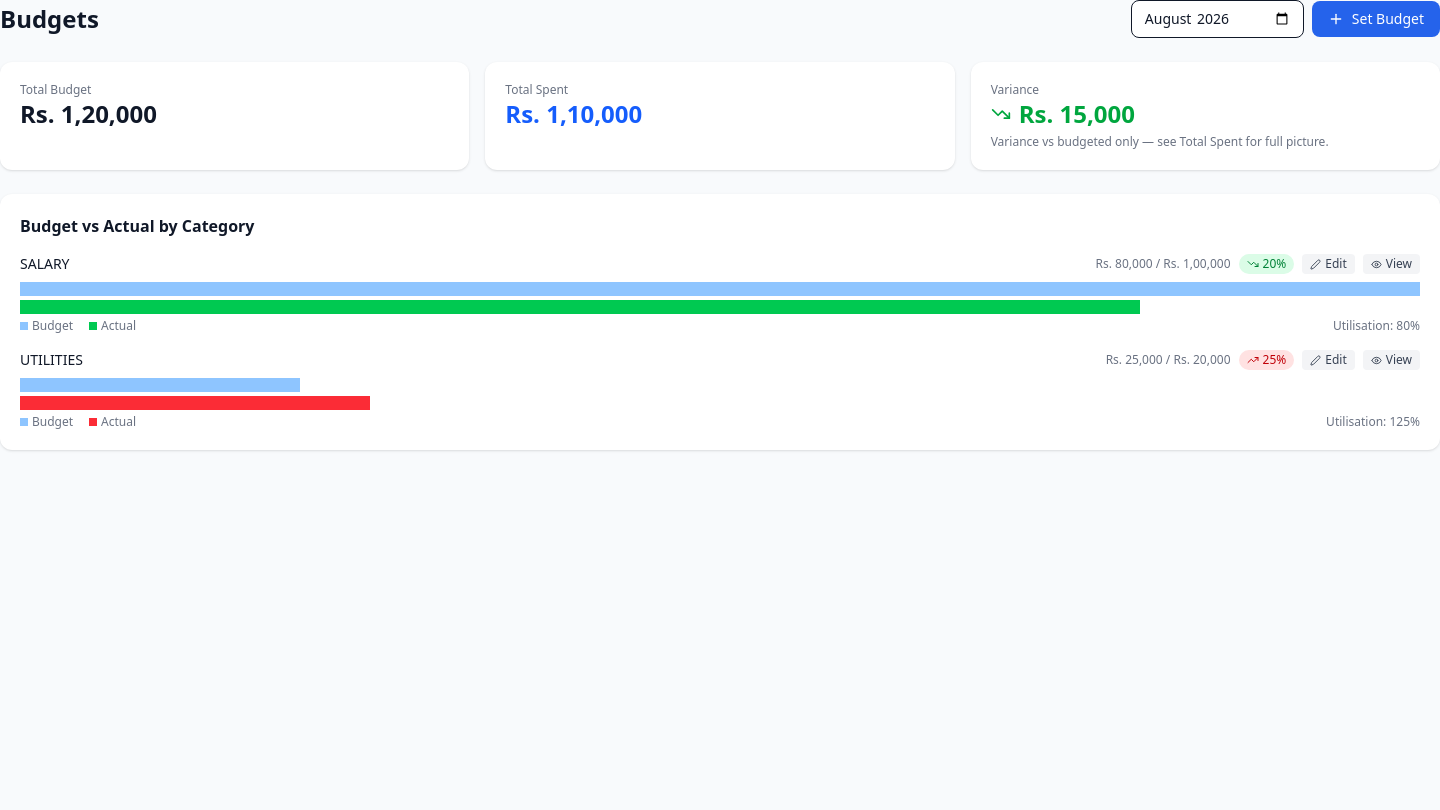
Test: Budgets dashboard page (admin-only monthly budgets vs actual) › opens the Edit modal pre-populated with the row data and locks the category
Check: the element with test id "budget-row-UTILITIES" is shown, box [20,350,1420,430]
Click the button with test id "budget-edit-UTILITIES".
click(1329, 360)  # box [1302,350,1355,370]
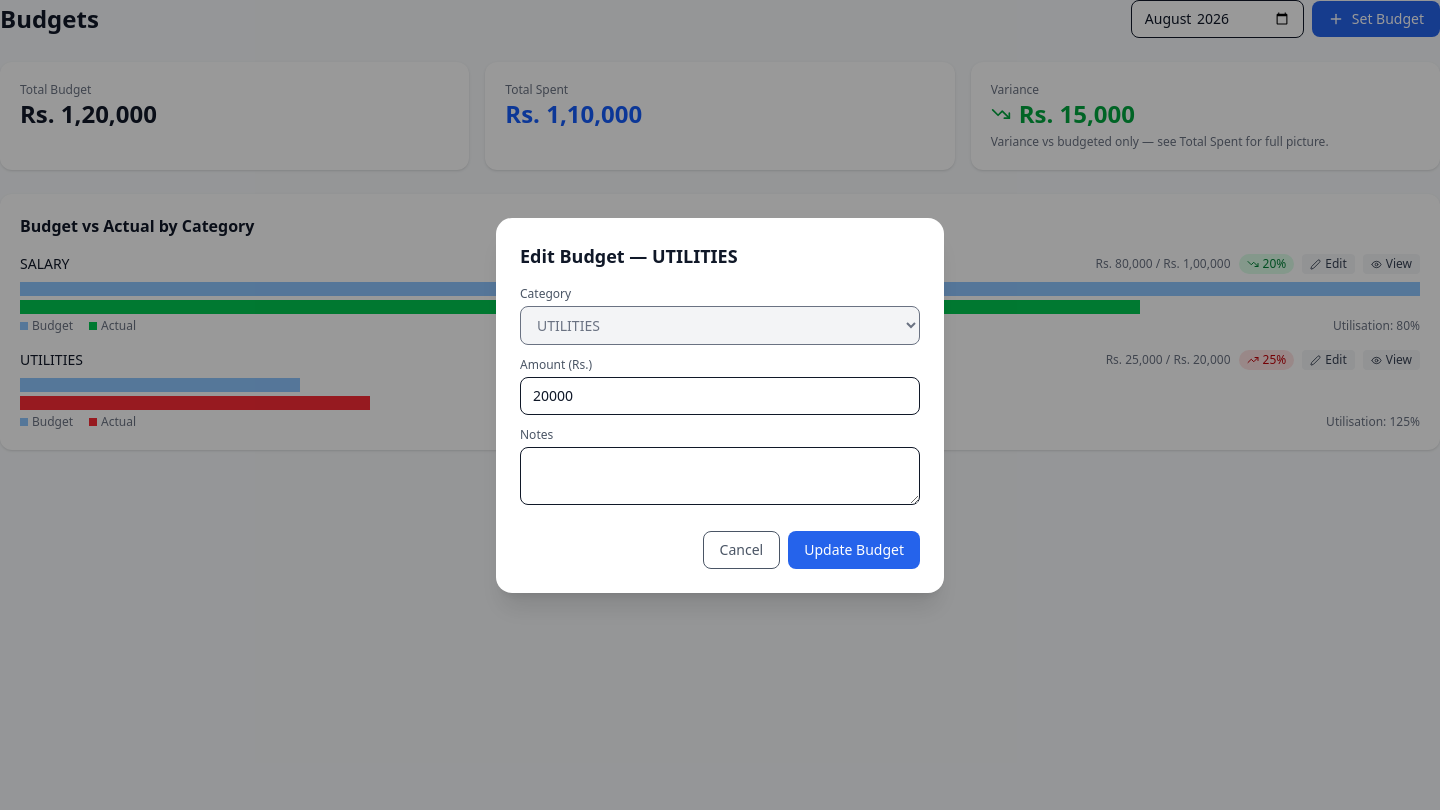
Check: the heading "Edit Budget — UTILITIES" is shown, box [520,244,738,268]
Check: the dropdown with id "add-budget-category" shows "UTILITIES", box [520,306,920,344]
Check: the dropdown with id "add-budget-category" is disabled, box [520,306,920,344]
